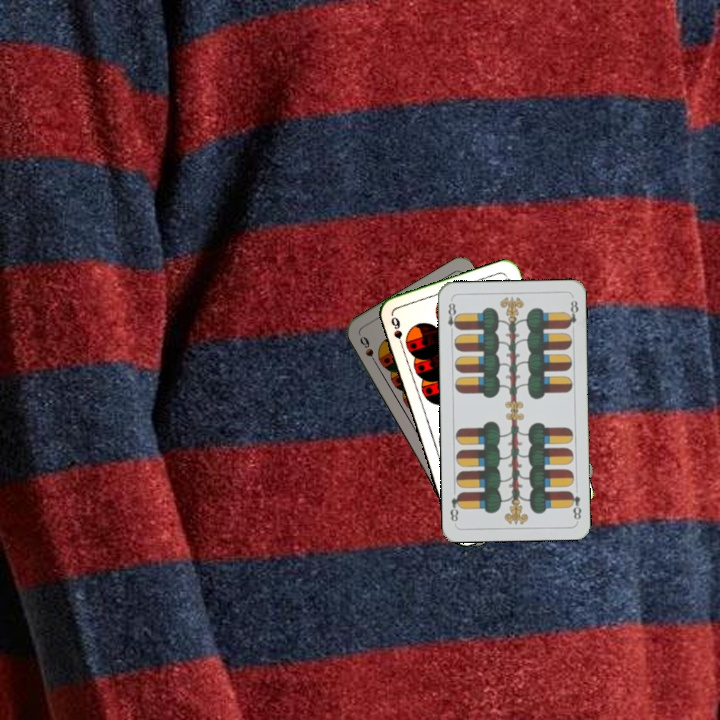E8: (565, 487, 584, 522), (444, 299, 461, 337)
S9: (387, 313, 411, 352), (356, 332, 381, 369)
